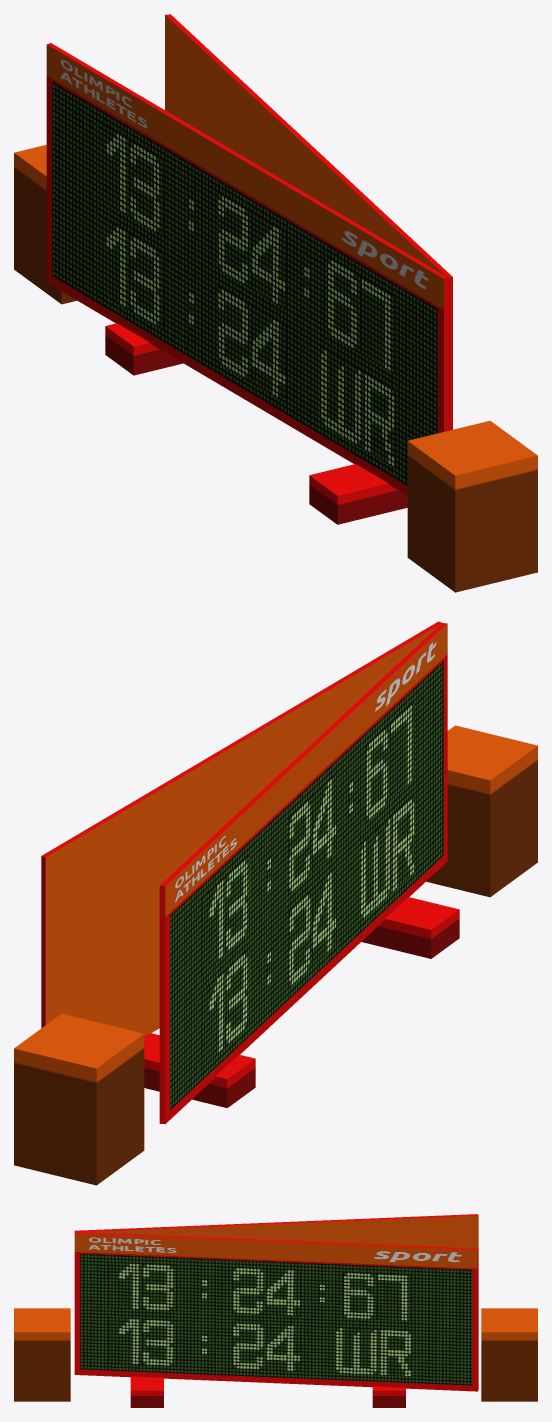
Rendered from Info_Clock2.FBX.
3 renders of one model, top to bottom at view 1: azimuth 30°, elevation 25°; view 2: azimuth 150°, elevation 25°; view 3: azimuth 270°, elevation 25°, orthographic. The views are drawn at different scales.
Visible parts, largest first — view 1: Info Clock2, Info Clock2_numbers01; view 2: Info Clock2, Info Clock2_numbers01; view 3: Info Clock2, Info Clock2_numbers01.
Part boxes in pixels (<box>): Info Clock2: <box>14,14,537,592</box>; Info Clock2_numbers01: <box>96,120,394,467</box>; Info Clock2: <box>14,621,537,1185</box>; Info Clock2_numbers01: <box>201,702,414,1068</box>; Info Clock2: <box>14,1214,537,1407</box>; Info Clock2_numbers01: <box>108,1262,410,1376</box>.
Bounding box in the file's own units: 7.66 × 15.53 × 46.57.
